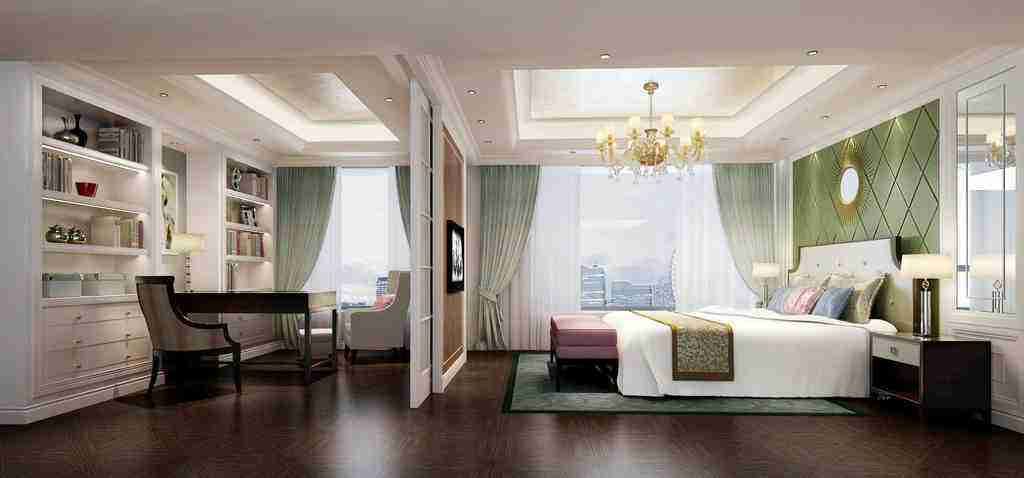床: (570, 306, 906, 411)
枕头: (757, 270, 896, 331)
灯: (590, 81, 711, 185), (908, 259, 959, 349), (170, 228, 209, 290), (598, 50, 618, 66), (806, 48, 828, 62), (464, 89, 480, 103), (382, 99, 398, 110)
